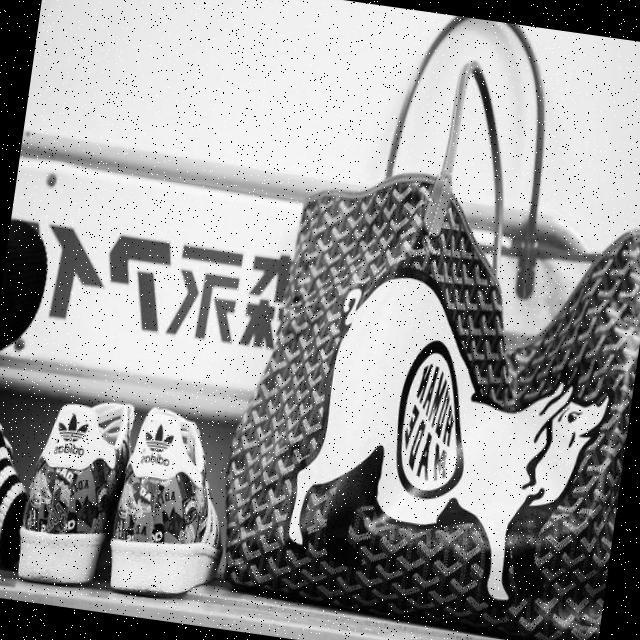Adidas: (134, 415, 180, 474), (49, 410, 93, 463)
